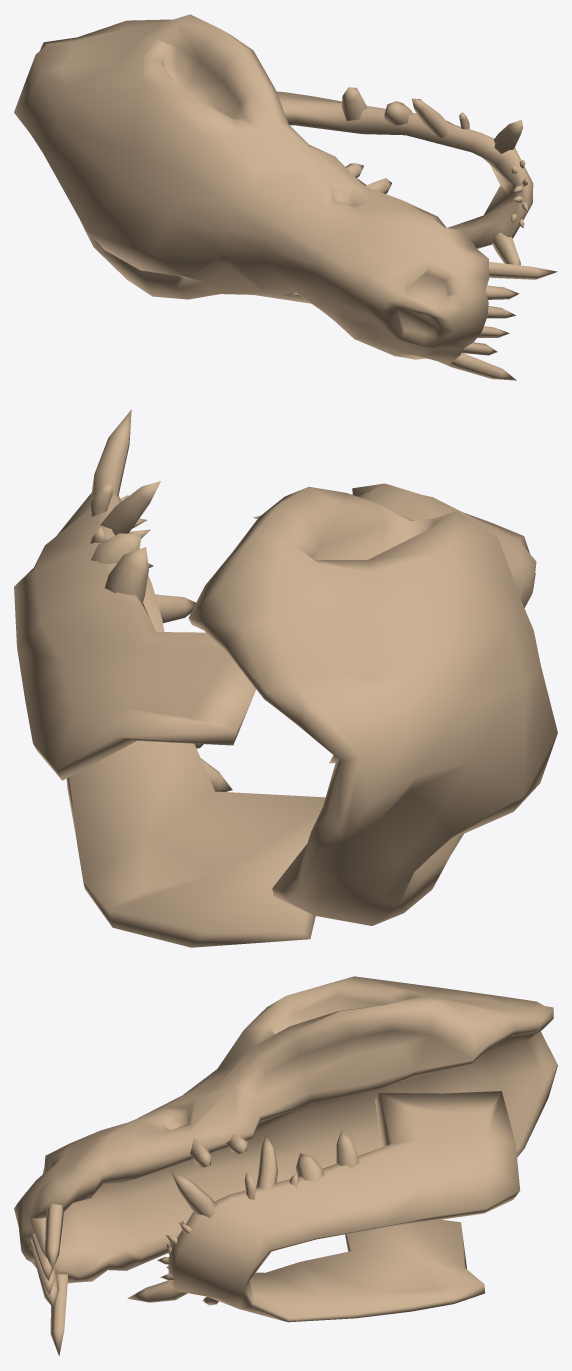
The model's file is Czaszka.fbx.
3 views of the same model, one above another, from view 1: azimuth 30°, elevation 25°; view 2: azimuth 150°, elevation 25°; view 3: azimuth 270°, elevation 25° (orthographic). The views are drawn at different scales.
Parts seen in each view (by area): view 1: skull, jaw; view 2: skull, jaw; view 3: skull, jaw.
Boxes of the visible parts, x1=… form: skull: x1=14, y1=14, x2=557, y2=380; jaw: x1=276, y1=87, x2=533, y2=265; skull: x1=188, y1=483, x2=557, y2=925; jaw: x1=14, y1=409, x2=325, y2=947; skull: x1=14, y1=976, x2=557, y2=1355; jaw: x1=127, y1=1091, x2=520, y2=1322.
Size of the model in its own units: 43.56 by 30.35 by 53.25.
